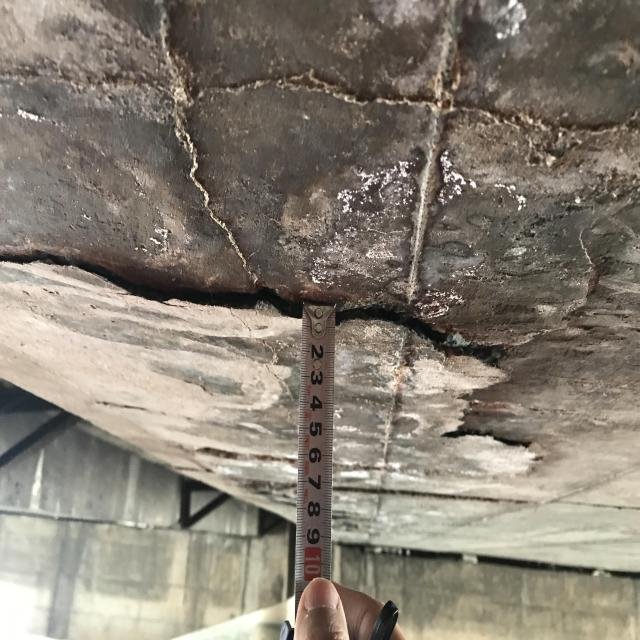horizontal crack: (0, 55, 638, 139)
vertical crack: (156, 0, 258, 280)
